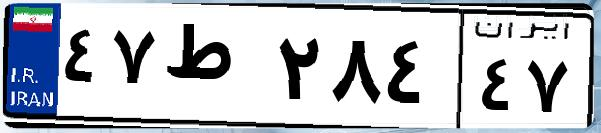2: (270, 28, 330, 110)
4: (385, 28, 445, 110), (57, 26, 110, 100), (475, 38, 525, 113)
7: (525, 38, 570, 115), (110, 28, 158, 98)
8: (330, 28, 385, 110)
ط: (158, 20, 270, 120)
